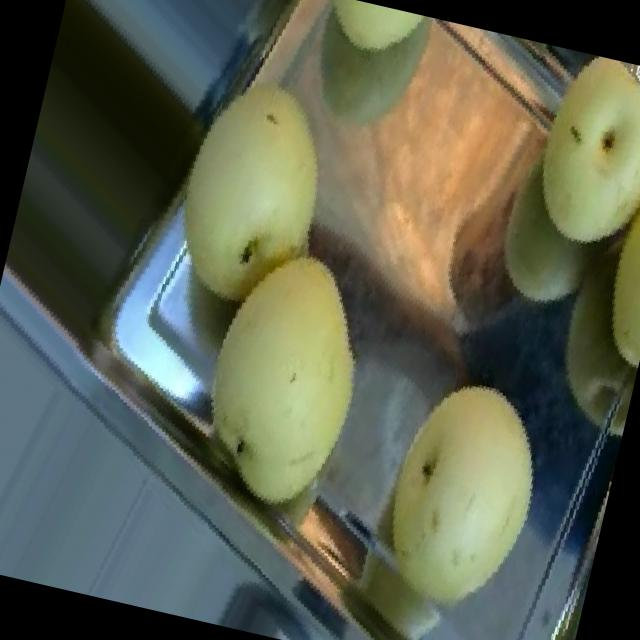Fruit: (220, 0, 592, 383), (155, 210, 415, 546), (130, 34, 378, 342), (330, 349, 574, 640), (510, 48, 640, 312)
